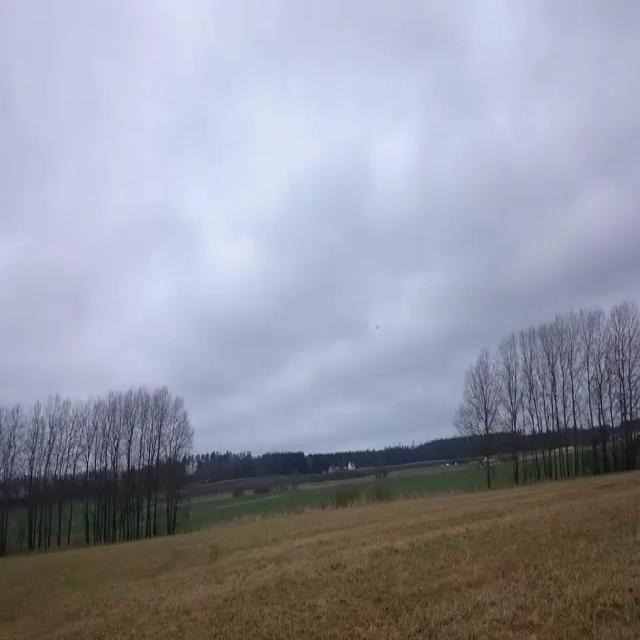drone: (376, 324, 379, 330)
